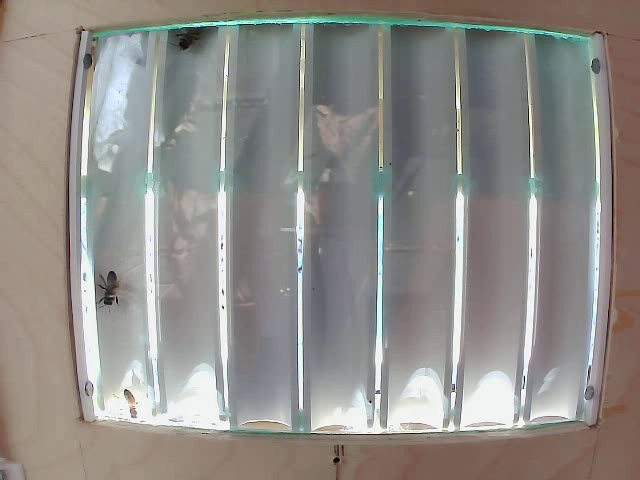bee: (89, 260, 134, 306)
